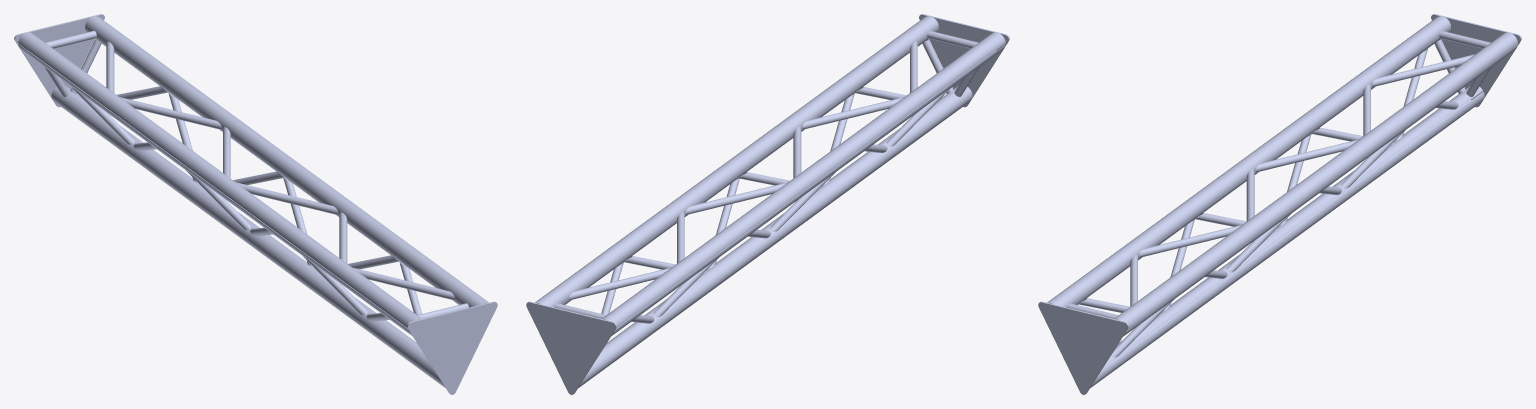
The model's file is mast_pole.dae.
3 views of the same model, side by side, from view 1: azimuth 30°, elevation 25°; view 2: azimuth 150°, elevation 25°; view 3: azimuth 330°, elevation 25° (orthographic).
Parts seen in each view (by area): view 1: Body_3, Body_4, Body_5, Body_1, Body_2, Body_7, Body_11, Body_12, Body_16, Body_18, Body_15, Body_9 (+1 smaller); view 2: Body_3, Body_4, Body_5, Body_2, Body_1, Body_10, Body_9, Body_8, Body_17, Body_20, Body_19, Body_11; view 3: Body_4, Body_3, Body_5, Body_1, Body_2, Body_9, Body_10, Body_8, Body_24, Body_29, Body_26, Body_11.
Boxes of the visible parts, x1,y1,x2,y2 form: Body_3: [18, 32, 421, 335]; Body_4: [85, 16, 488, 307]; Body_5: [51, 85, 445, 388]; Body_1: [407, 301, 497, 394]; Body_2: [14, 14, 104, 107]; Body_7: [353, 267, 454, 300]; Body_11: [236, 182, 338, 214]; Body_12: [120, 97, 221, 129]; Body_16: [185, 170, 250, 229]; Body_18: [303, 256, 367, 315]; Body_15: [69, 85, 134, 144]; Body_9: [106, 41, 114, 92]; Body_3: [602, 32, 1005, 335]; Body_4: [535, 16, 938, 307]; Body_5: [578, 85, 972, 388]; Body_2: [526, 301, 616, 394]; Body_1: [919, 14, 1009, 107]; Body_10: [685, 182, 787, 214]; Body_9: [569, 267, 671, 299]; Body_8: [802, 97, 903, 129]; Body_17: [653, 258, 718, 317]; Body_20: [886, 87, 951, 146]; Body_19: [770, 172, 835, 231]; Body_11: [793, 127, 801, 177]; Body_4: [1114, 32, 1517, 336]; Body_3: [1047, 16, 1450, 307]; Body_5: [1090, 86, 1484, 388]; Body_1: [1038, 301, 1128, 394]; Body_2: [1431, 14, 1521, 107]; Body_9: [1372, 54, 1474, 86]; Body_10: [1255, 139, 1358, 172]; Body_8: [1139, 225, 1241, 257]; Body_24: [1341, 130, 1405, 188]; Body_29: [1111, 300, 1173, 357]; Body_26: [1226, 214, 1290, 272]; Body_11: [1246, 169, 1254, 221].
Bounding box in the file's own units: 0.2648 × 2.01 × 0.233.
